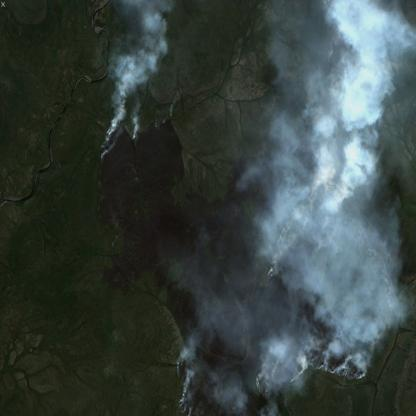fire: (249, 346, 374, 403), (302, 169, 348, 254), (97, 98, 141, 168), (323, 0, 356, 73), (264, 225, 296, 288), (171, 347, 200, 416), (365, 39, 389, 74)
